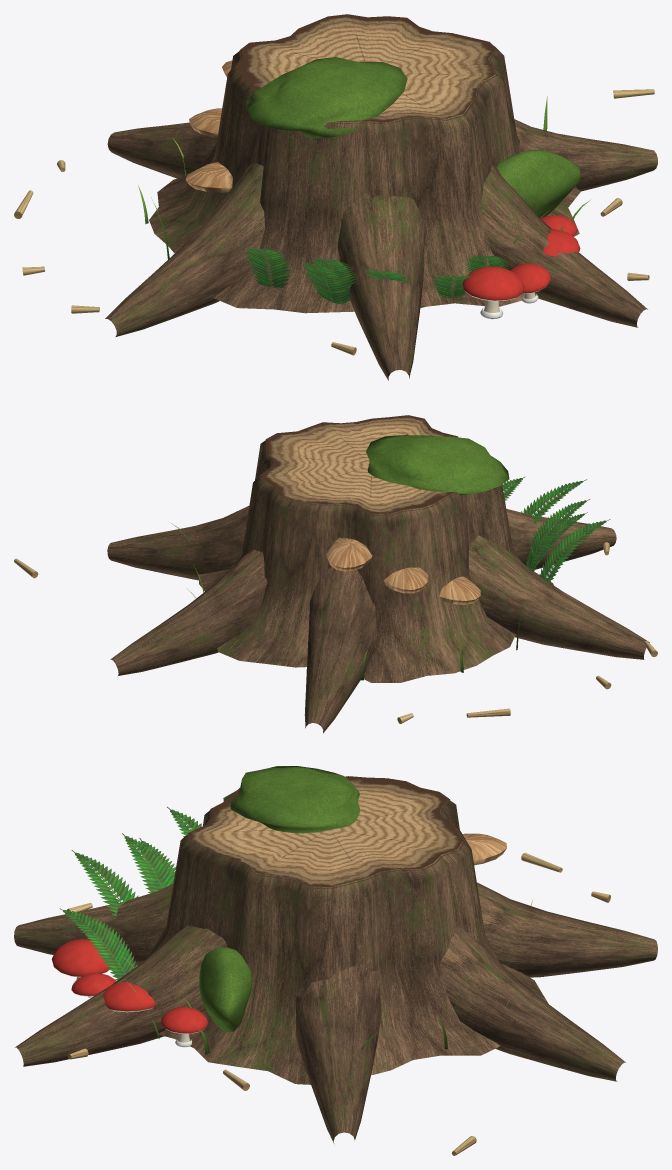
Rendered from tocon.gltf.
3 renders of one model, top to bottom at view 1: azimuth 30°, elevation 25°; view 2: azimuth 150°, elevation 25°; view 3: azimuth 270°, elevation 25°, orthographic. The views are drawn at different scales.
Visible parts, largest first — view 1: tocon; view 2: tocon; view 3: tocon.
Part boxes in pixels (bbox=[...]): tocon: bbox=[14, 14, 657, 380]; tocon: bbox=[14, 415, 657, 733]; tocon: bbox=[14, 766, 657, 1155].
Size of the model in its own units: 3.63 by 1.04 by 3.01.
10 materials, 10 textured.
